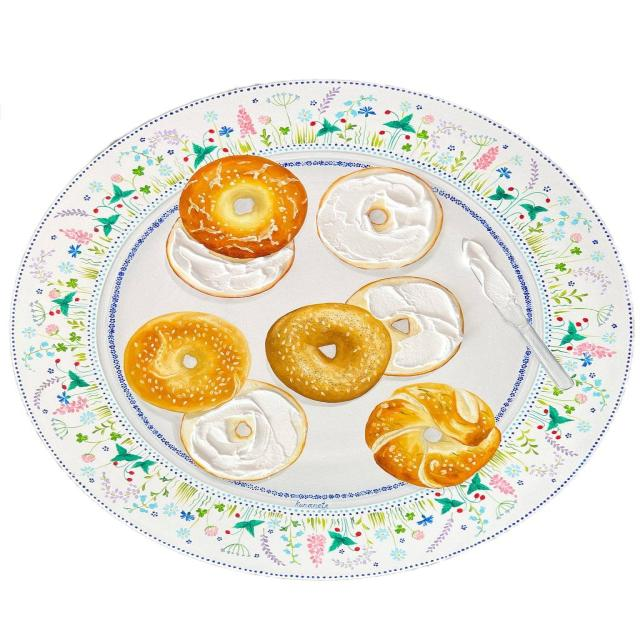Bagel: (366, 382, 502, 488), (180, 155, 306, 259), (123, 311, 250, 412), (266, 302, 391, 402)
